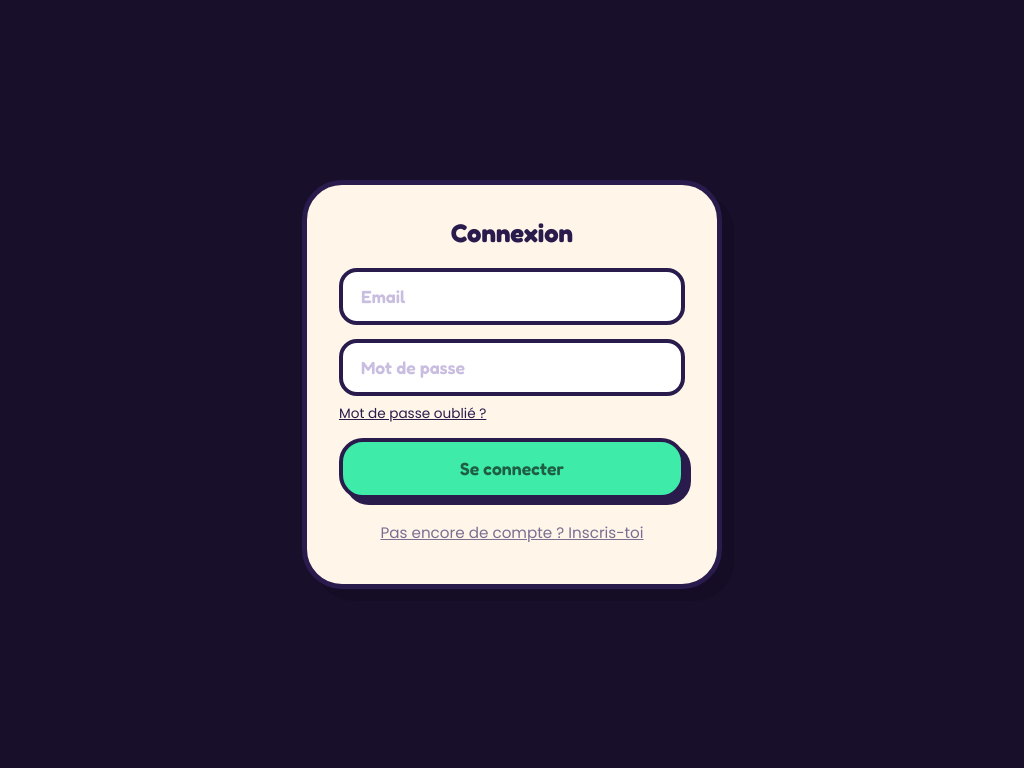
Test: AuthOverlay › requires the age declaration and policy acknowledgement to sign up
Click the button "Pas encore de compte ? Inscris-toi". click: (512, 532)
box: x1=339 y1=512 x2=685 y2=552
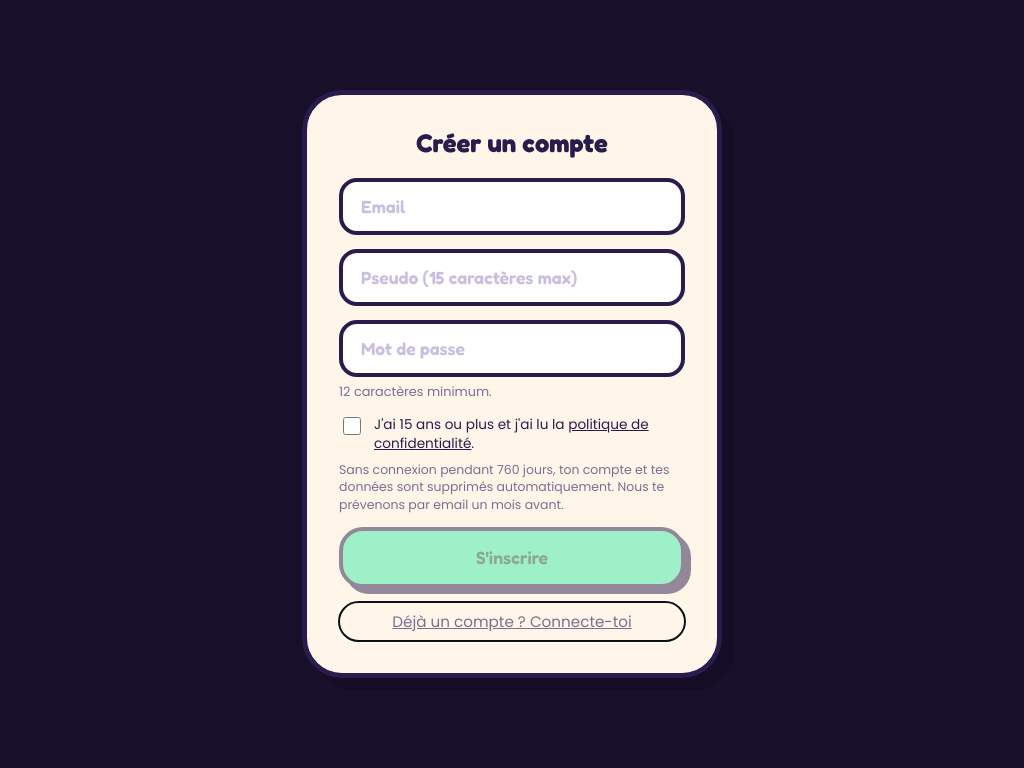
Expected: the button "S'inscrire" is disabled, x1=339 y1=527 x2=685 y2=588
Type "correct horse battery" into the password field with placeholder "Mot de passe". click: (512, 348)
box: x1=339 y1=320 x2=685 y2=377
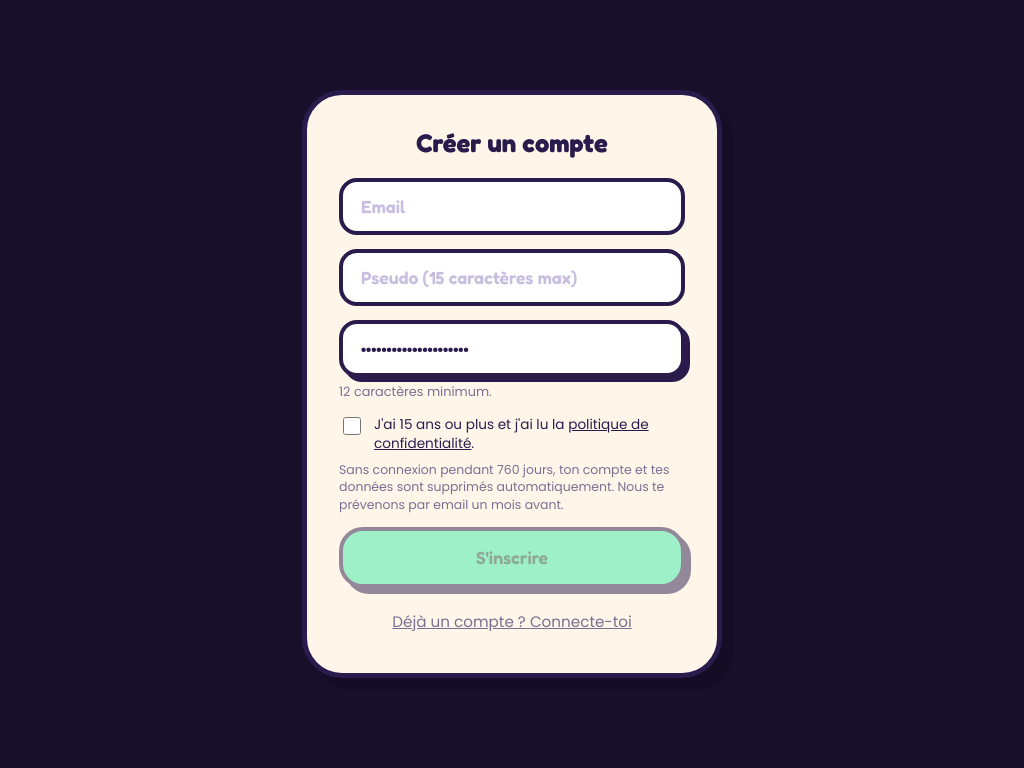
Expected: the button "S'inscrire" is disabled, x1=339 y1=527 x2=685 y2=588
Click the checkbox. click: (352, 426)
box: x1=343 y1=417 x2=361 y2=435
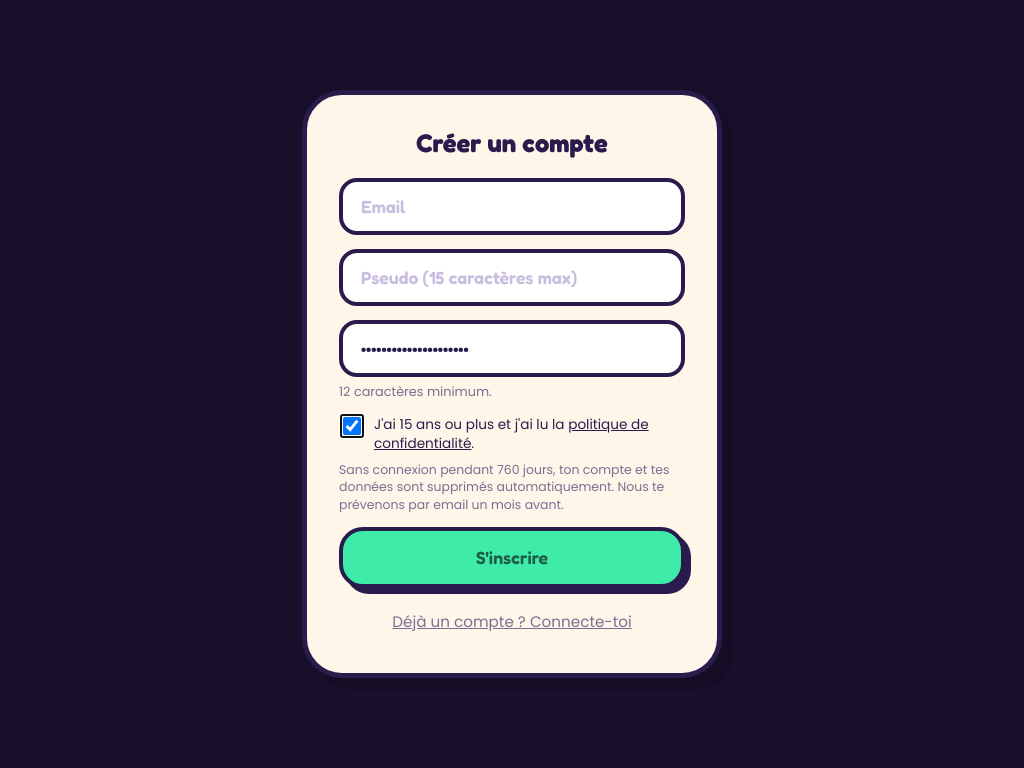
Expected: the button "S'inscrire" is enabled, x1=339 y1=527 x2=685 y2=588
